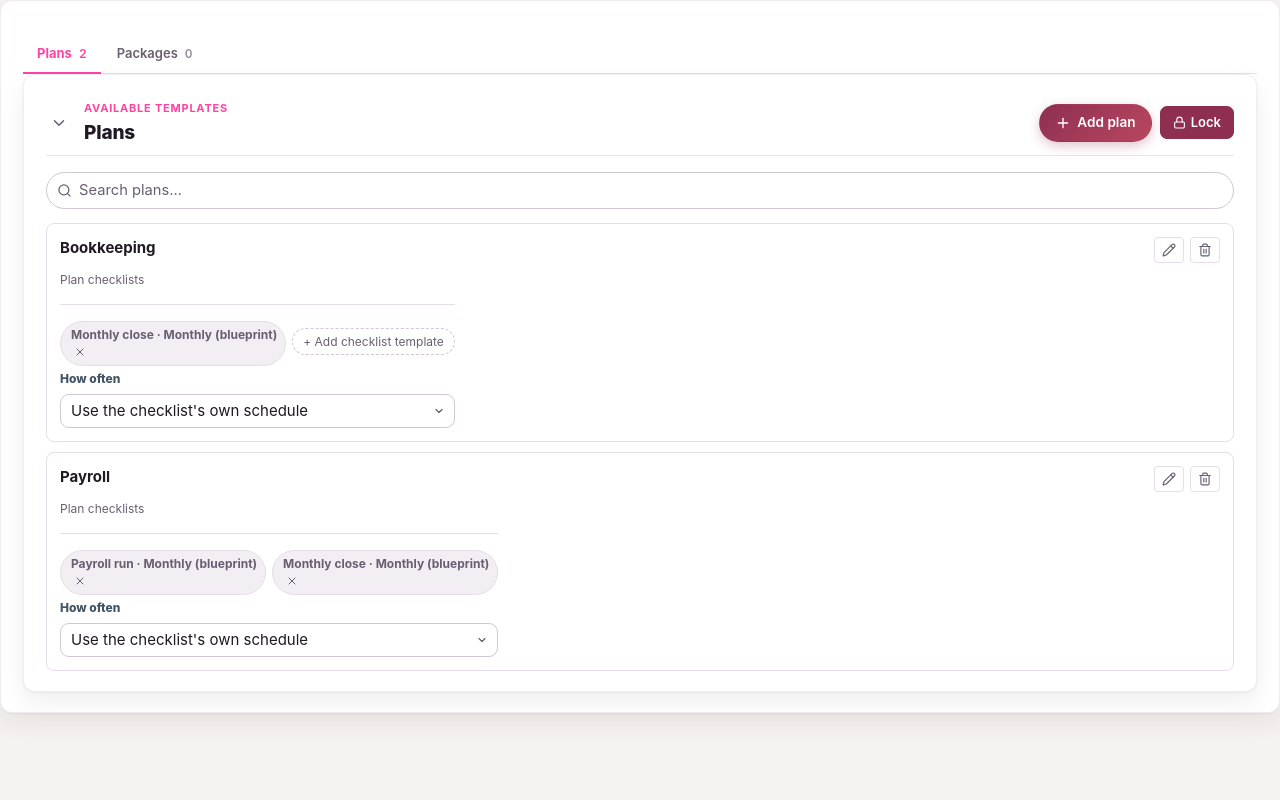
Test: the Plans page tabs › shows only Packages after a click, without re-fetching
Click the tab "Packages 0": {"x": 155, "y": 54} [103,35,206,74]
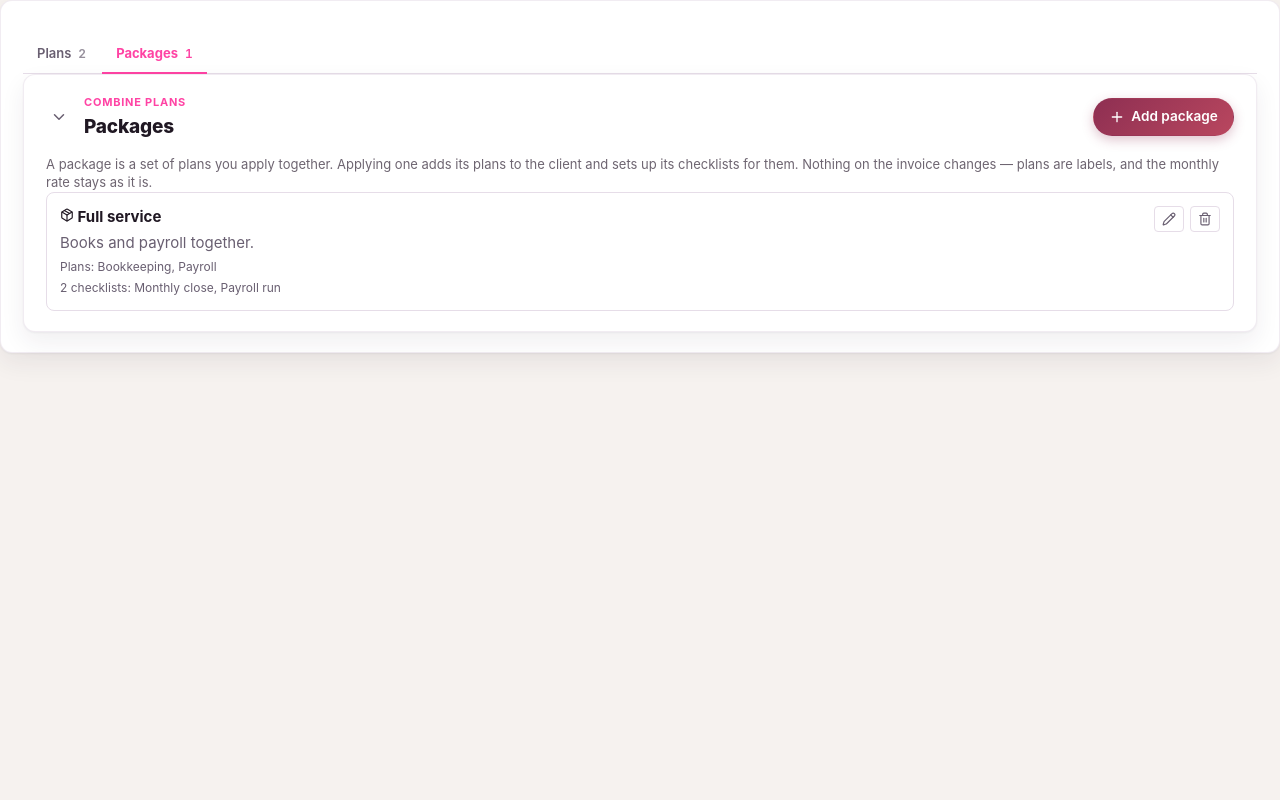
Expected: the text "Full service" is shown, [60,207,161,226]
